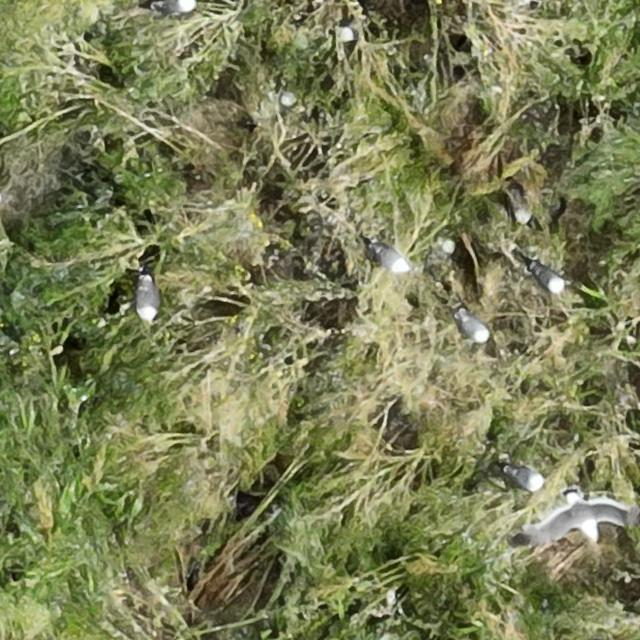F: (540, 491, 630, 541)
umineko: (136, 278, 158, 320), (377, 247, 411, 273), (431, 238, 458, 270), (461, 312, 489, 341), (534, 264, 564, 291), (507, 468, 543, 490), (512, 186, 534, 222), (283, 81, 309, 109), (339, 23, 367, 42), (157, 0, 194, 12)
